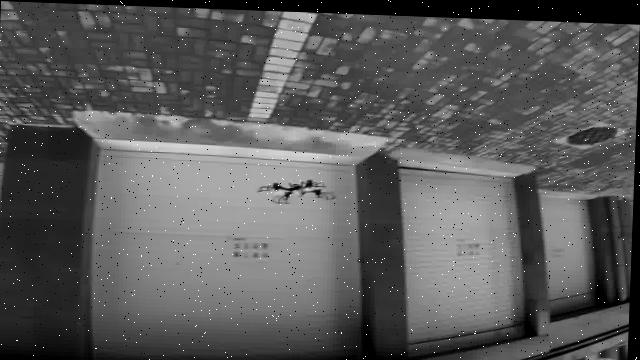drone: (251, 164, 344, 211)
